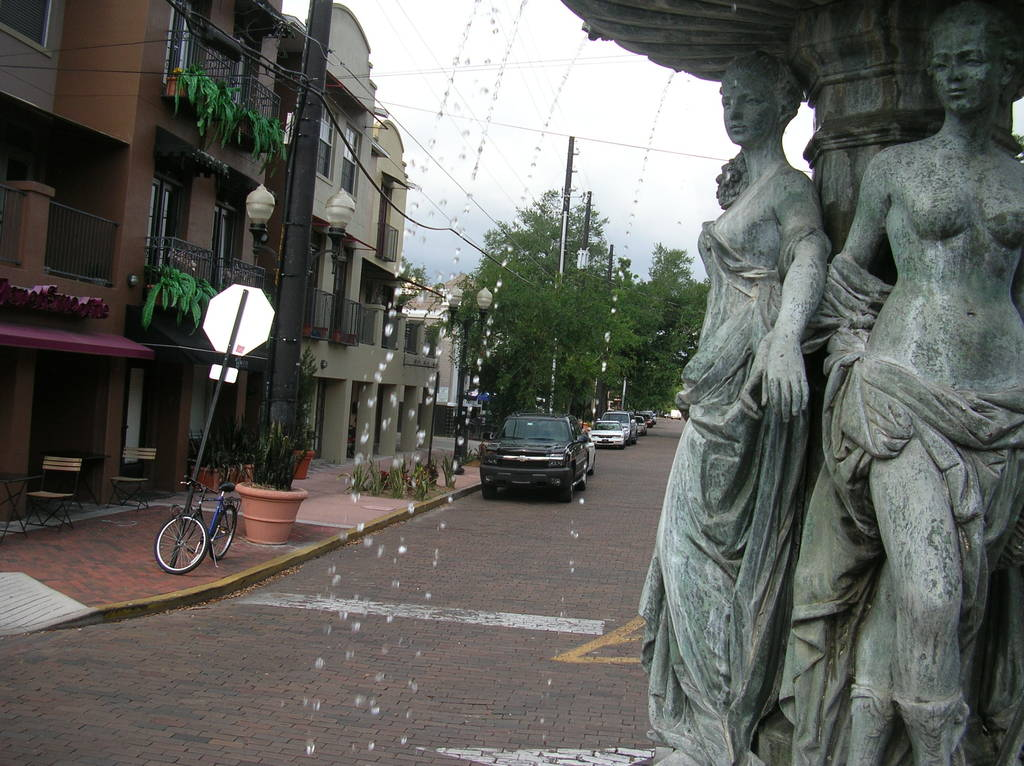Car: (481, 410, 587, 502), (590, 410, 656, 449), (584, 432, 595, 476), (663, 412, 668, 419)
